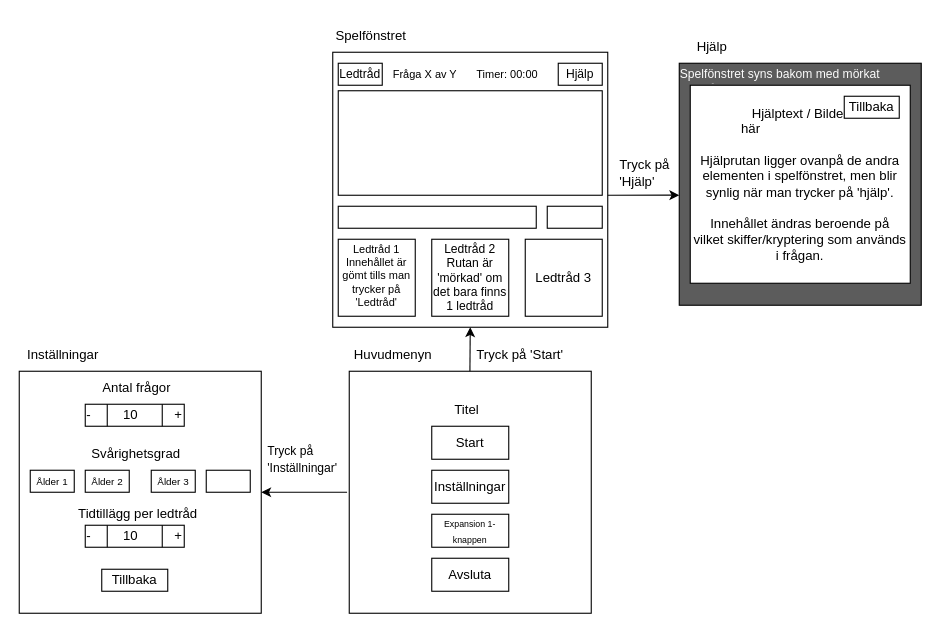
This 946x633 diagram has some shape labels left out. Here are the shapes that lost their labels. From the top down, the centre of each, then its label:
the point at 469,142: Fråga här
the point at 436,216: Svar som skriftlig input
the point at 574,216: Skicka svar
the point at 227,480: Ålder 4
